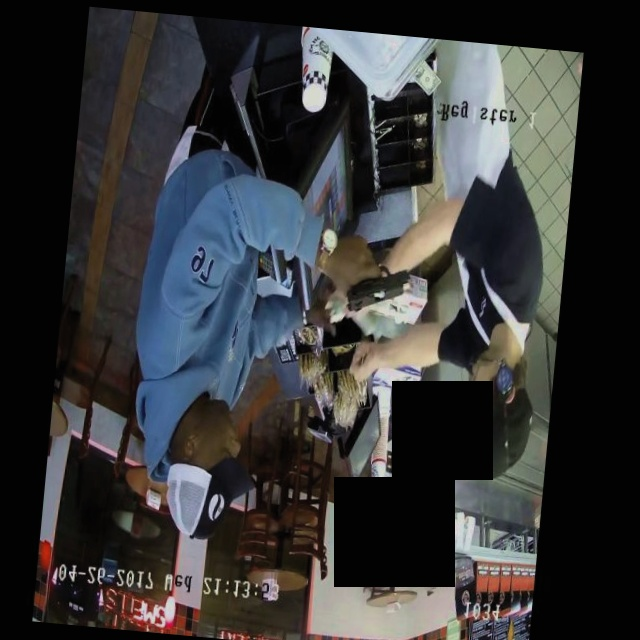gun: (333, 239, 420, 329)
